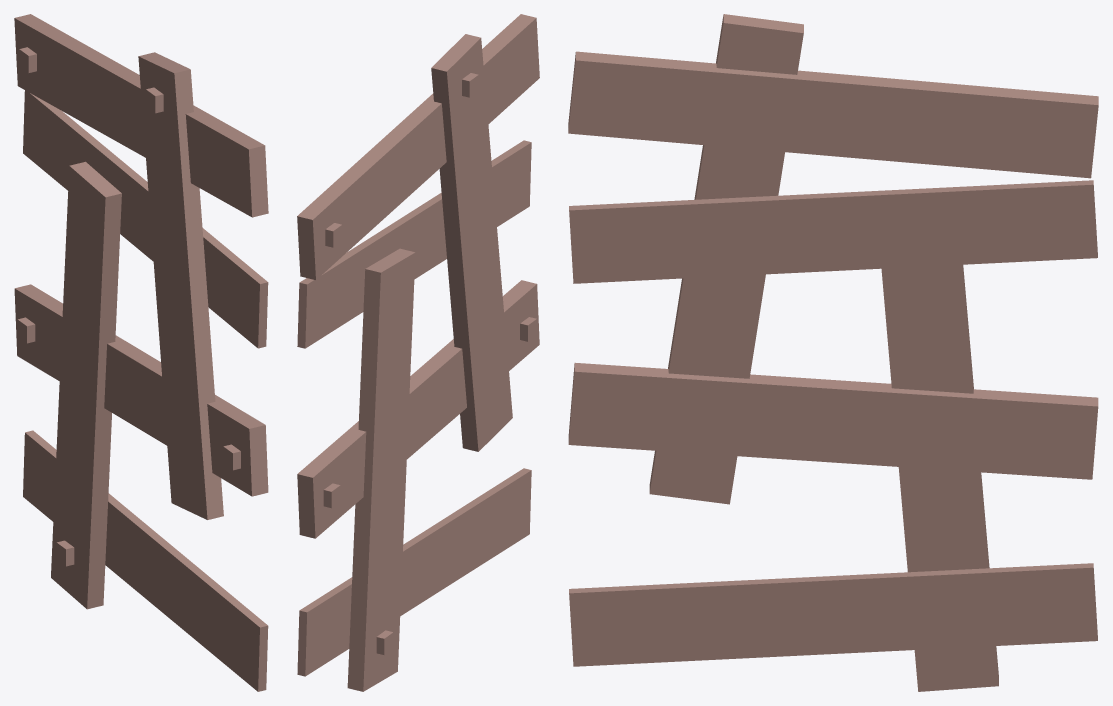
Rendered from barricade-doorway-c.obj.
3 views of the same model, side by side, from view 1: azimuth 30°, elevation 25°; view 2: azimuth 150°, elevation 25°; view 3: azimuth 270°, elevation 25° (orthographic). The views are drawn at different scales.
Bounding box in the file's own units: 0.1 × 1.75 × 1.26.
